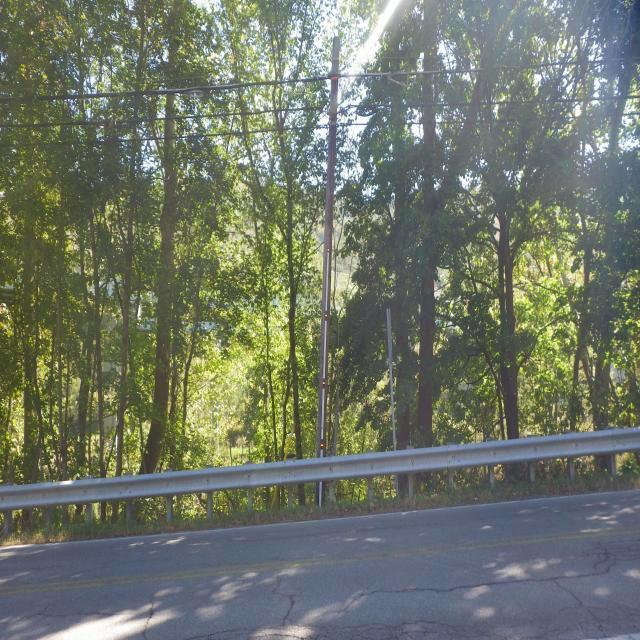pole: (316, 36, 341, 513)
wire: (0, 60, 635, 103), (2, 93, 640, 131), (0, 111, 640, 148)
